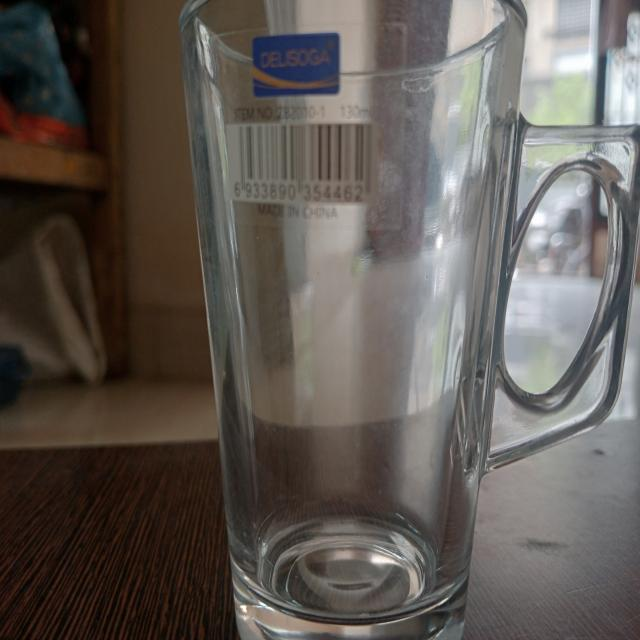glass-VX4N: (176, 0, 640, 636)
